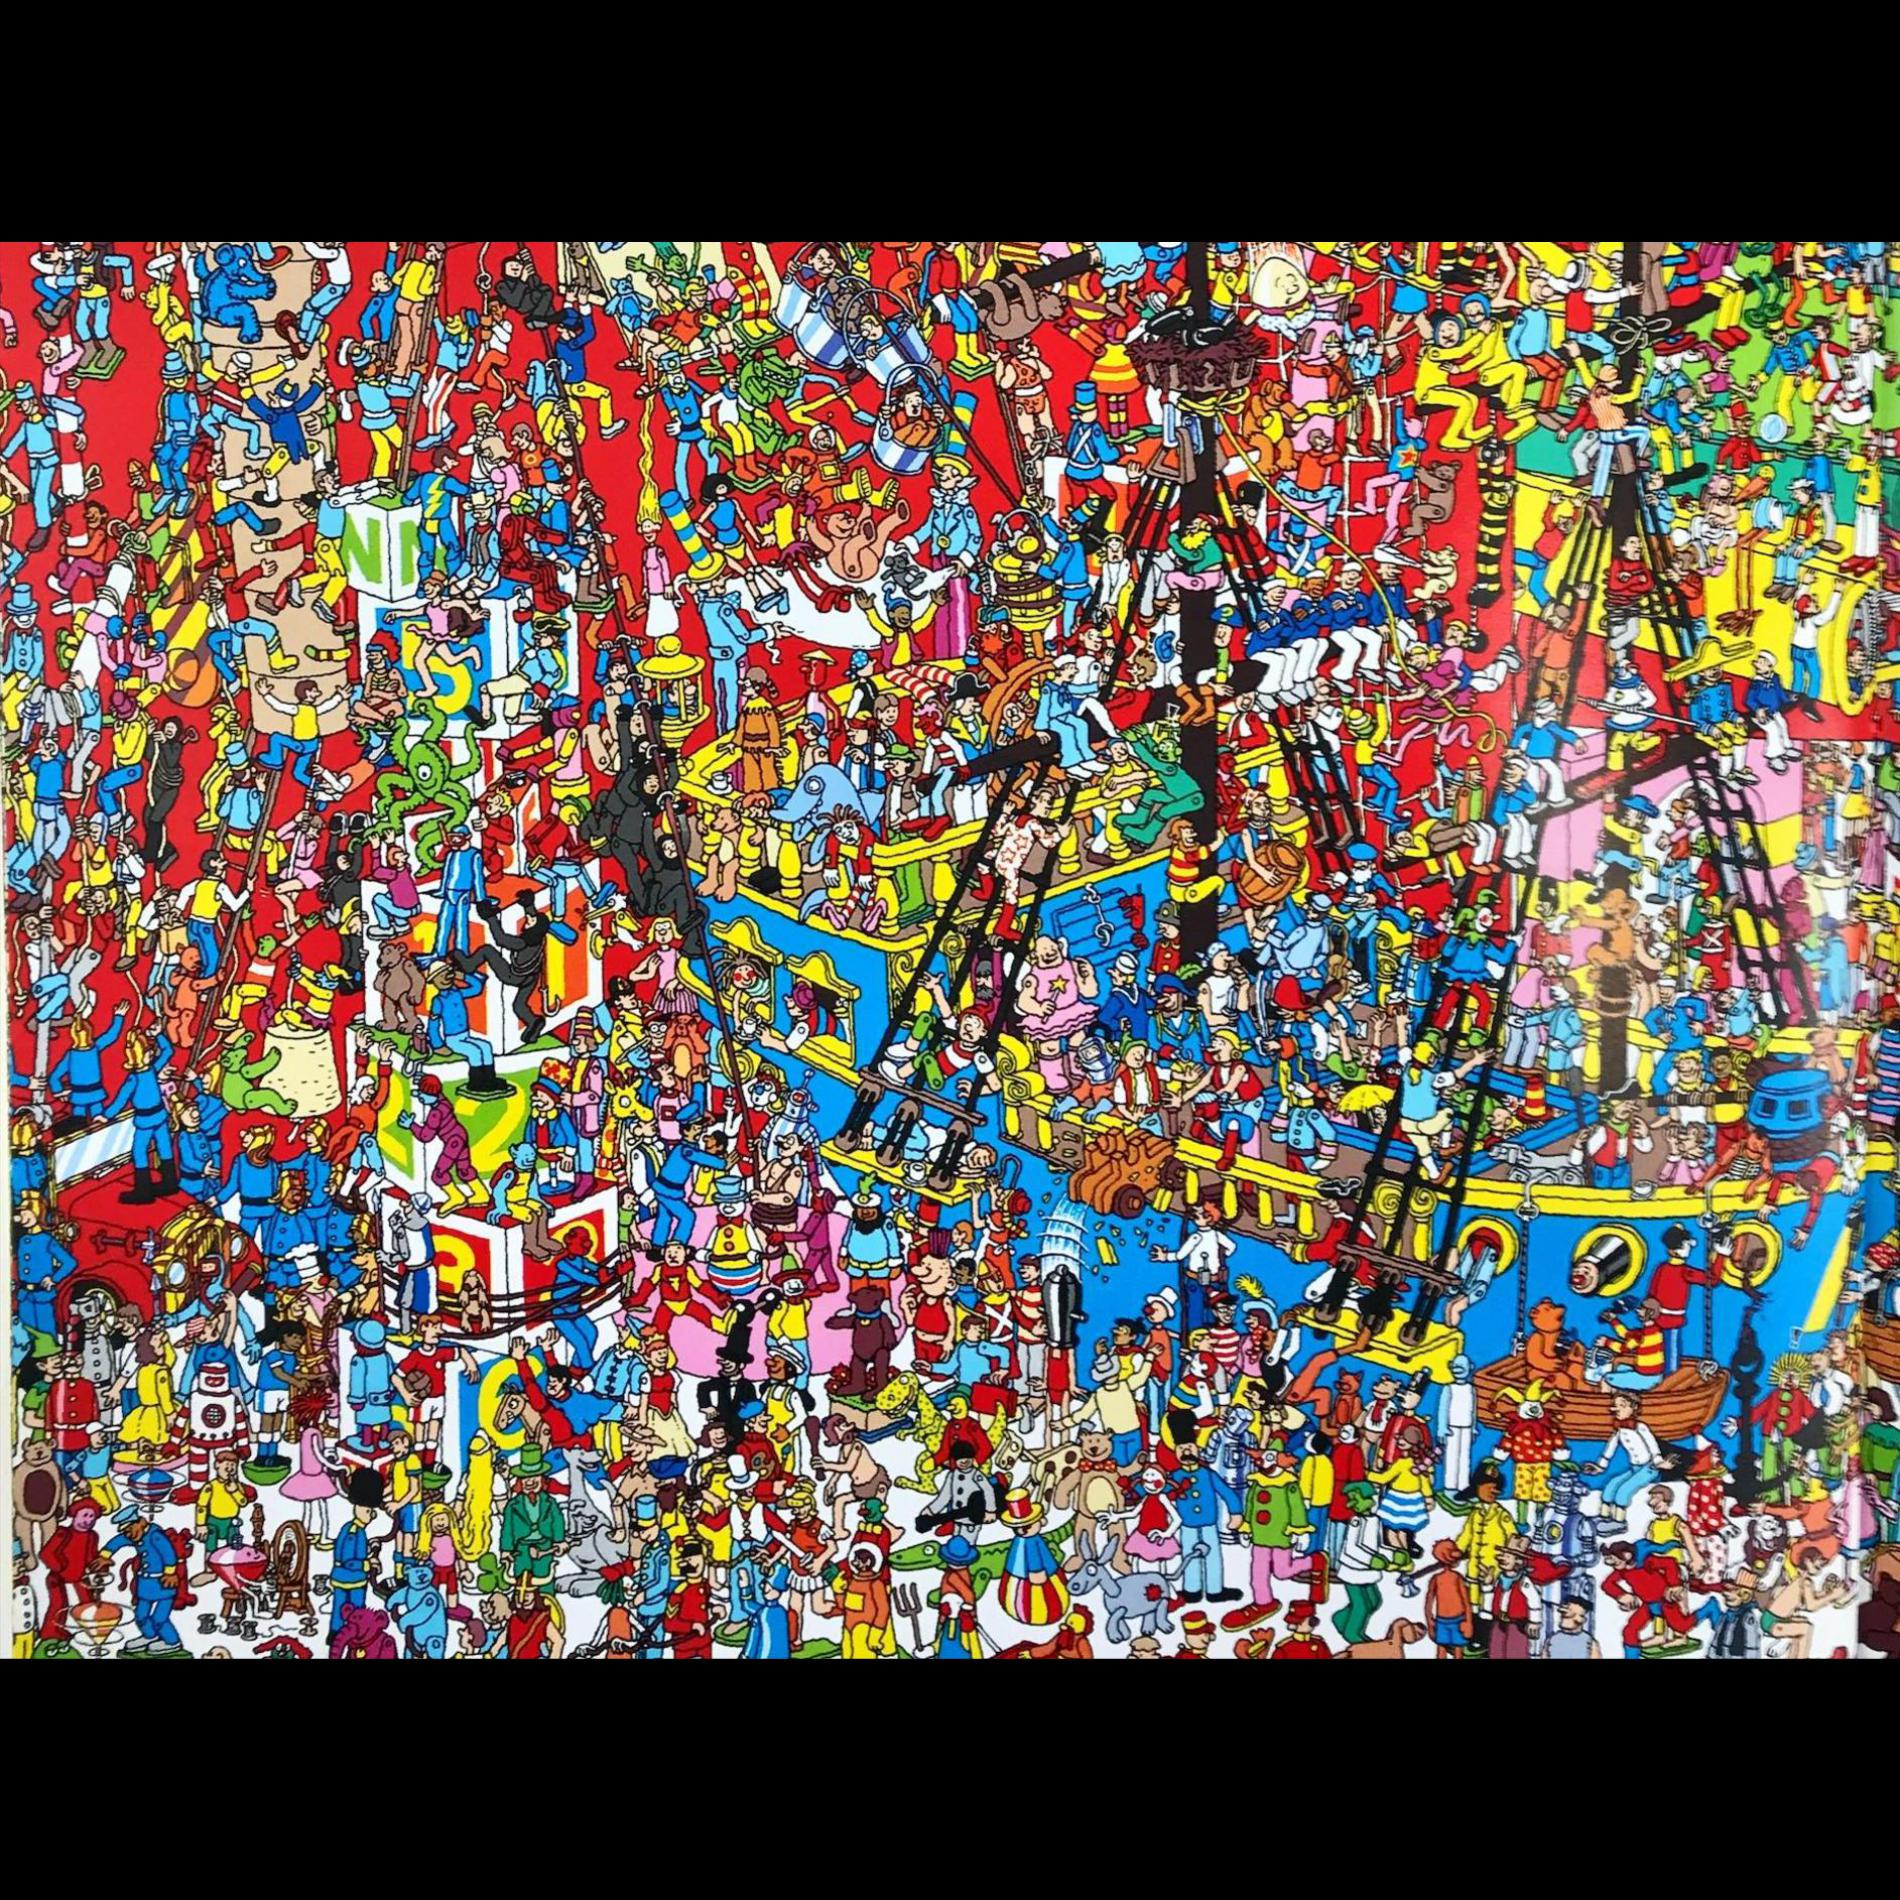Waldo: (642, 1007, 670, 1046)
Wilma: (1204, 1281, 1241, 1369)
